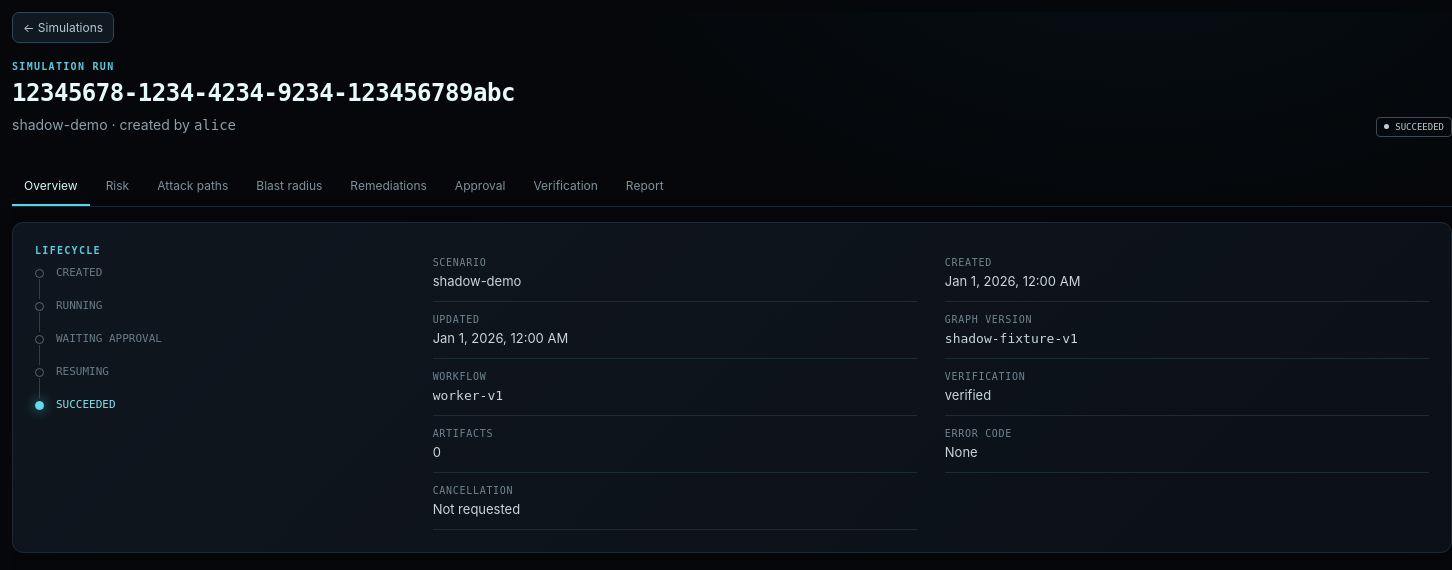
SimulationDetailPage durable lifecycle › loads persisted risk and selected result after SUCCEEDED
The width and height of the screenshot is (1452, 570).
Click the tab "Attack paths": (193, 186) left=145, top=167, right=240, bottom=206
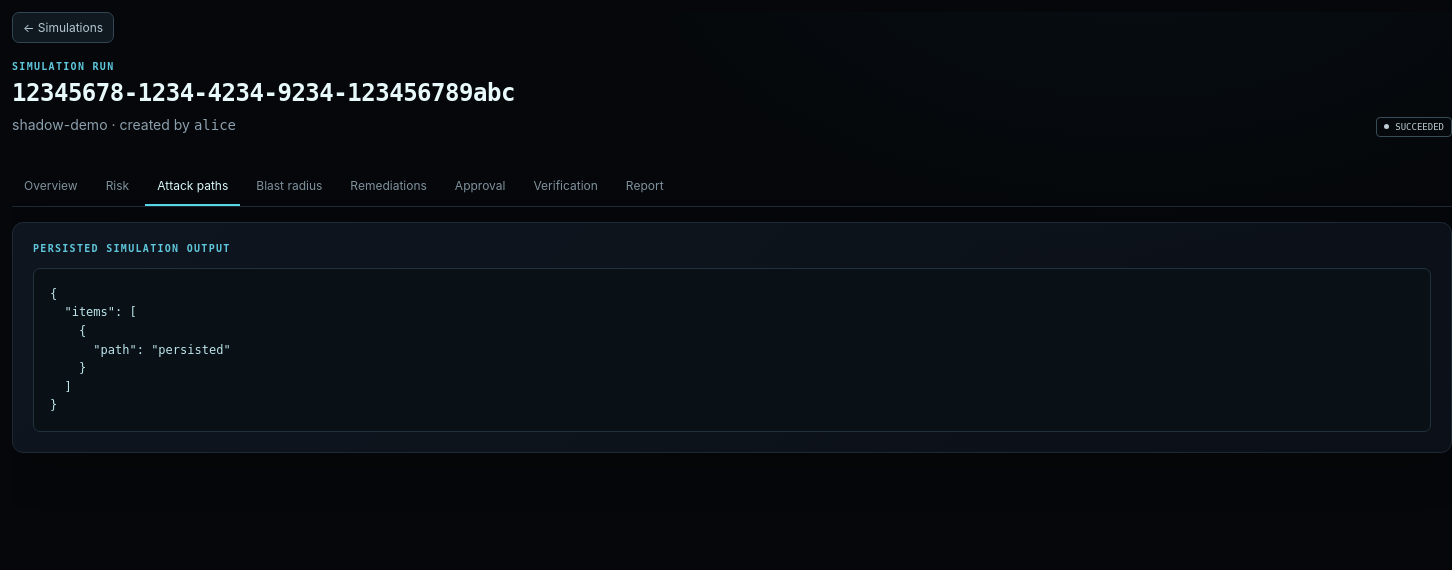
Expected: the text "{ \"items\": [ { \"path\": \"persisted\" } ] }" is shown, left=33, top=268, right=1431, bottom=432
